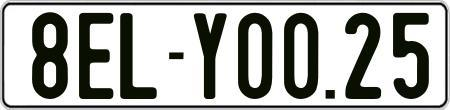0: (284, 11, 322, 101), (238, 13, 274, 103)
2: (344, 12, 385, 100)
5: (390, 11, 430, 103)
8: (30, 11, 66, 100)
E: (76, 10, 110, 99)
L: (120, 12, 160, 103)
Y: (192, 12, 225, 103)
